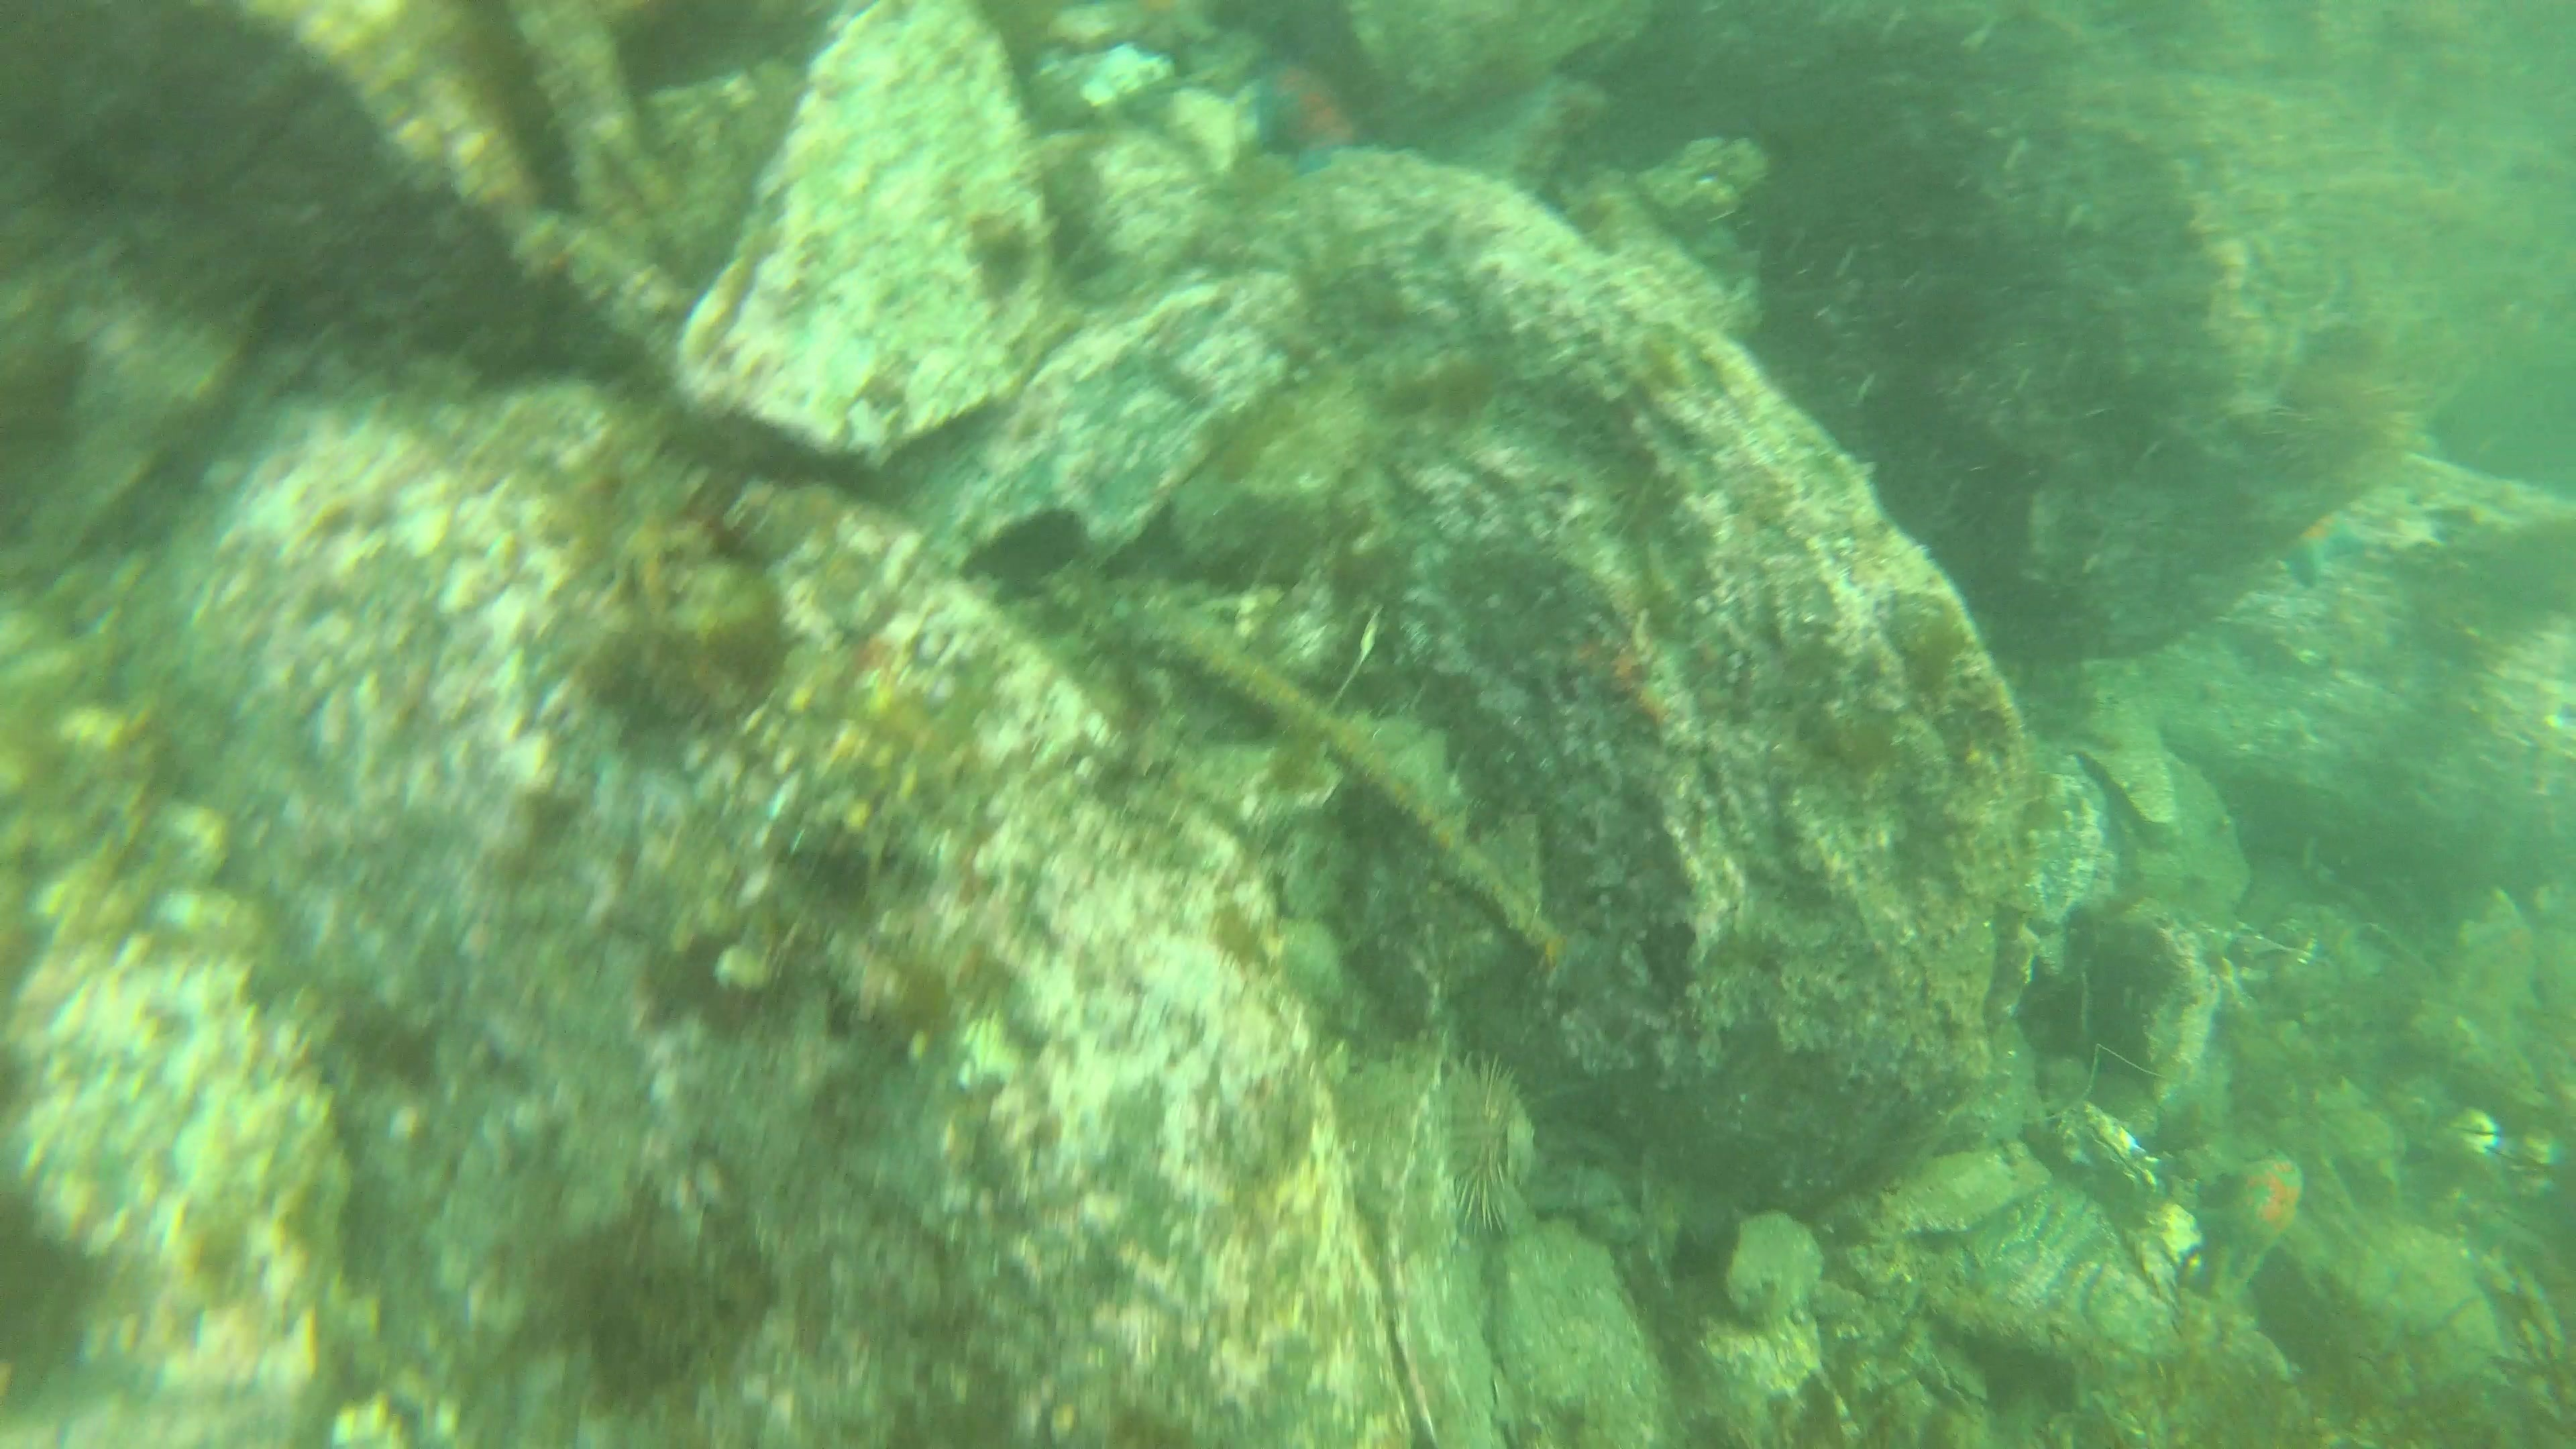echinus: (2258, 338, 2434, 501), (1417, 1046, 1552, 1246)
starfish: (1231, 48, 1376, 177), (2197, 1138, 2330, 1277), (2266, 497, 2388, 591)
